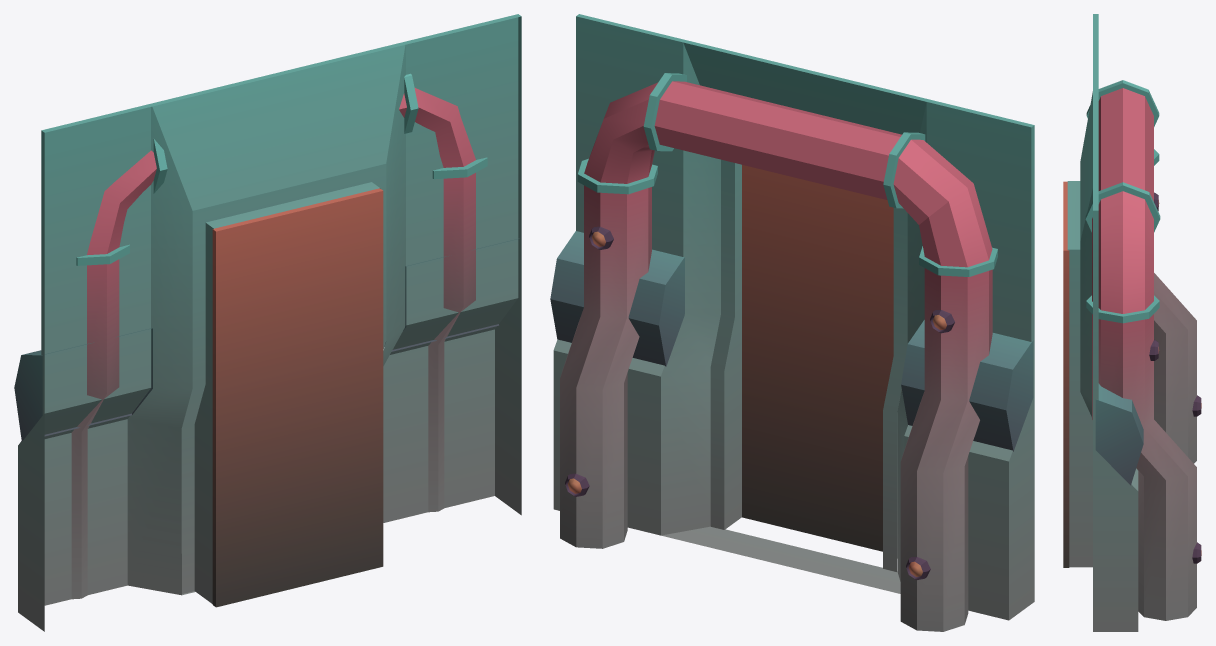
File: Wall-01.fbx
The picture shows the model from 3 angles, left to right: view 1: azimuth 30°, elevation 25°; view 2: azimuth 150°, elevation 25°; view 3: azimuth 270°, elevation 25°; orthographic projection. The views are drawn at different scales.
Parts seen in each view (by area): view 1: polySurface2; view 2: polySurface2; view 3: polySurface2.
Boxes of the visible parts, left/top/right/bottom form: polySurface2: left=14, top=14, right=521, bottom=631; polySurface2: left=550, top=14, right=1034, bottom=631; polySurface2: left=1063, top=14, right=1201, bottom=631.
Size of the model in its own units: 15.02 by 15 by 4.47.
1 material, 1 textured.
